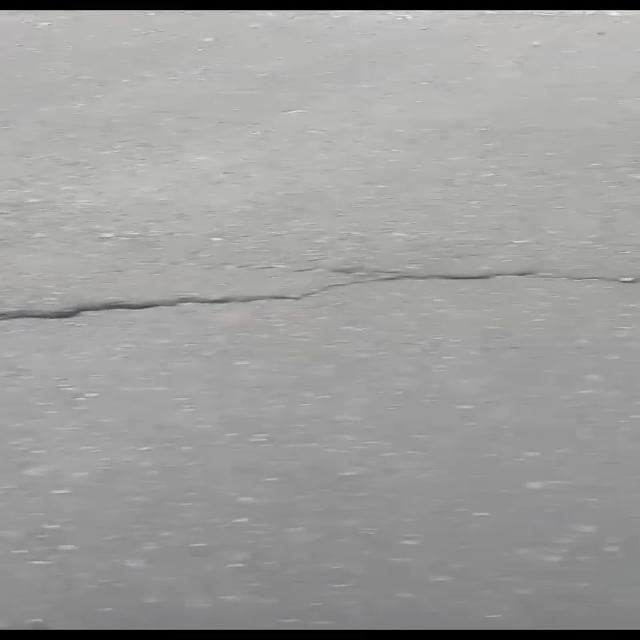Melintang: (0, 263, 640, 333)
